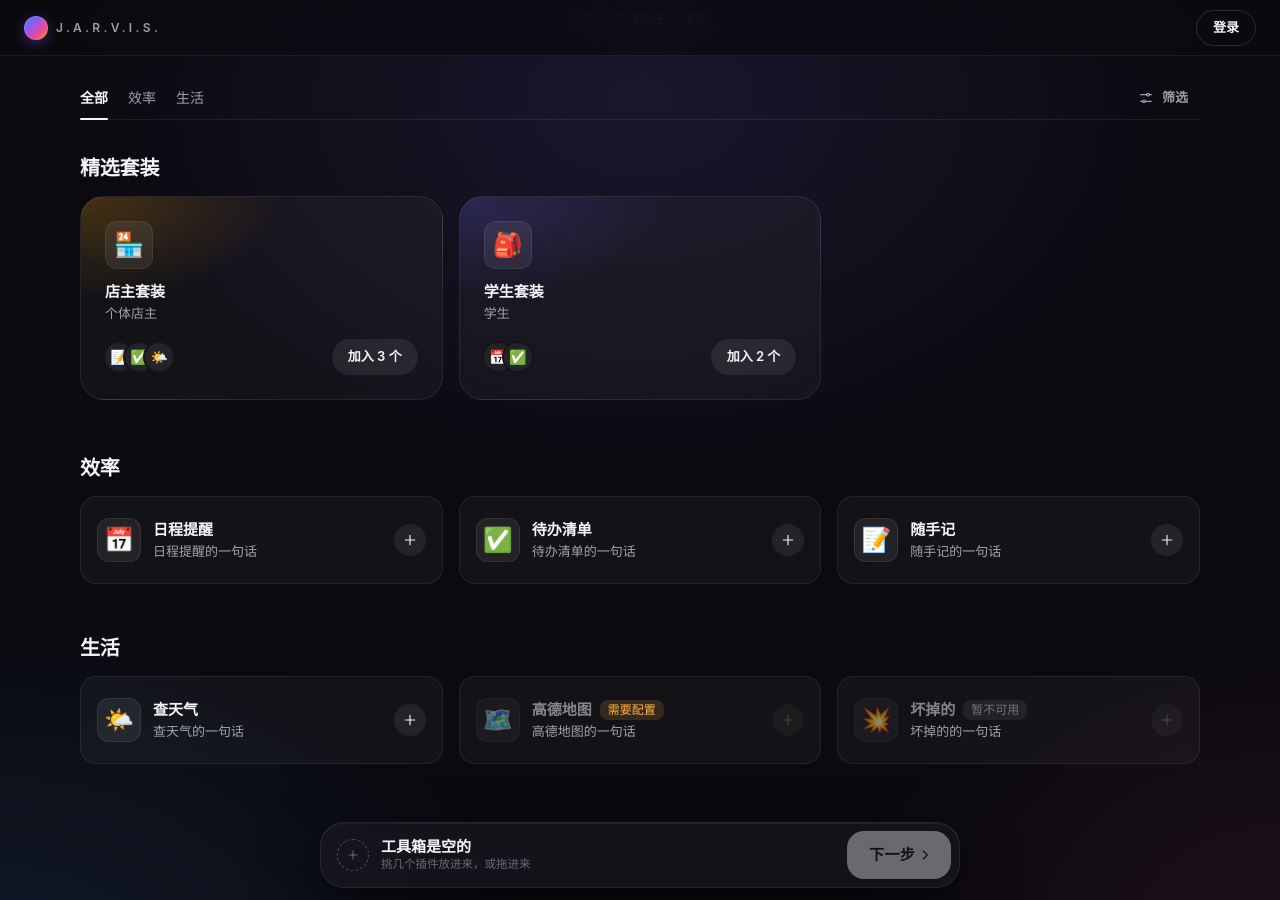
Scenario: 第十七轮版面 › 点「＋」加入：从按钮所在的卡片飞进工具箱（移出时不飞）；整套加入也飞；不可用的「＋」禁用并给读屏原因
The image size is (1280, 900).
(page scrolled)
Click the button named "加入工具箱：查天气".
click(410, 720)  # box [394,704,426,736]
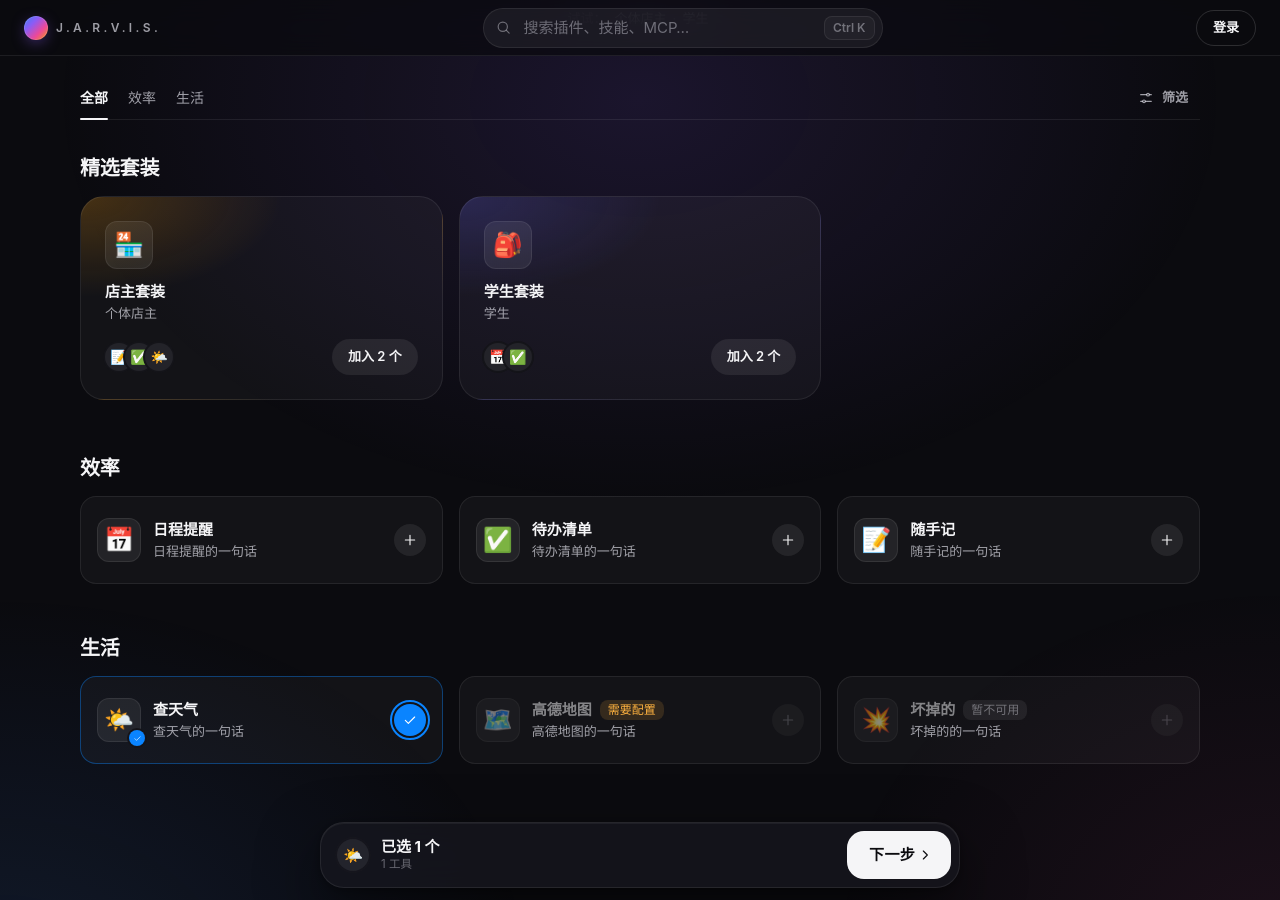
Now the button named "移出工具箱：查天气" is pressed
Click the button named "移出工具箱：查天气".
click(410, 720)  # box [394,704,426,736]
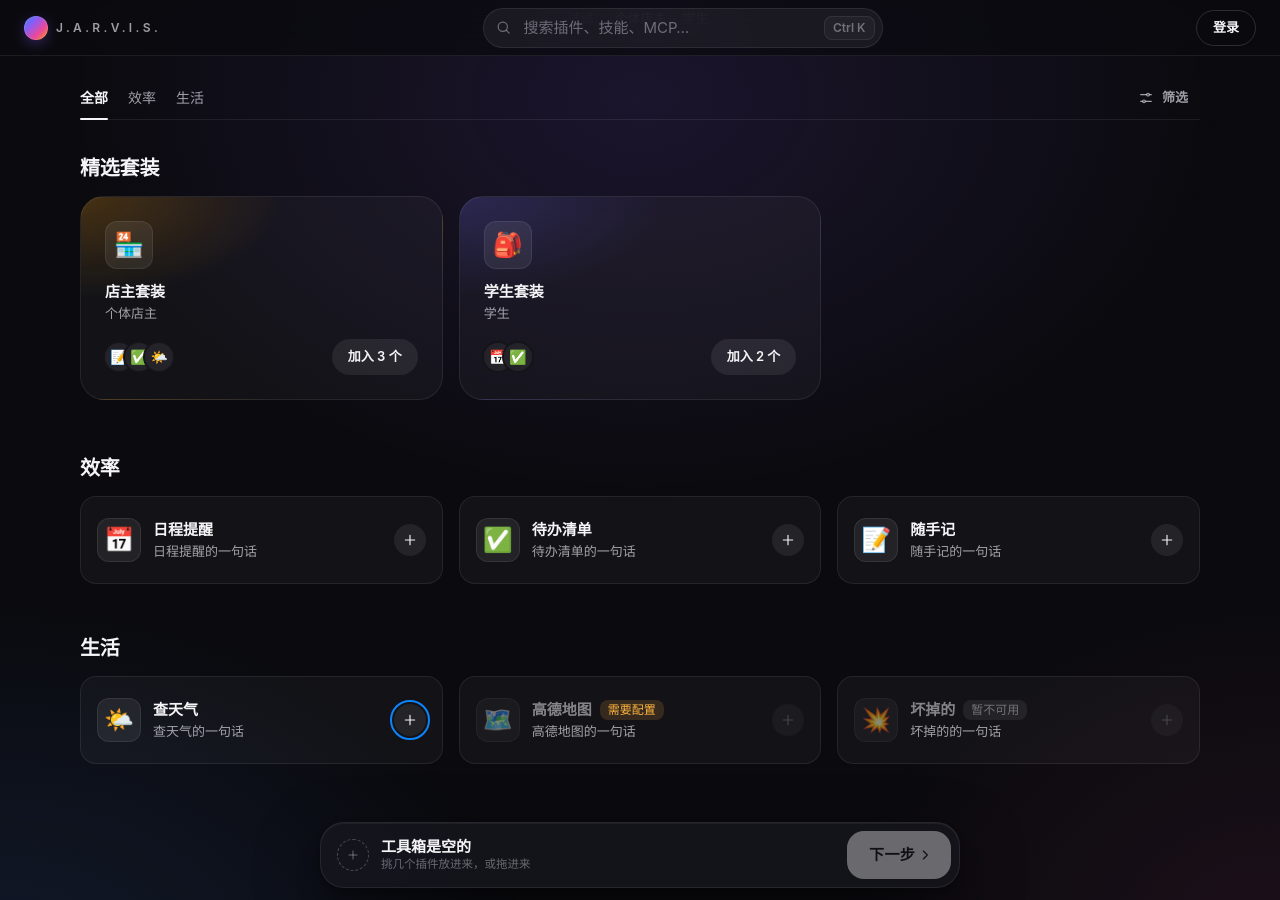
Click the button with aria-label "整套加入：店主套装（3 个）".
click(375, 356)  # box [332,338,418,374]
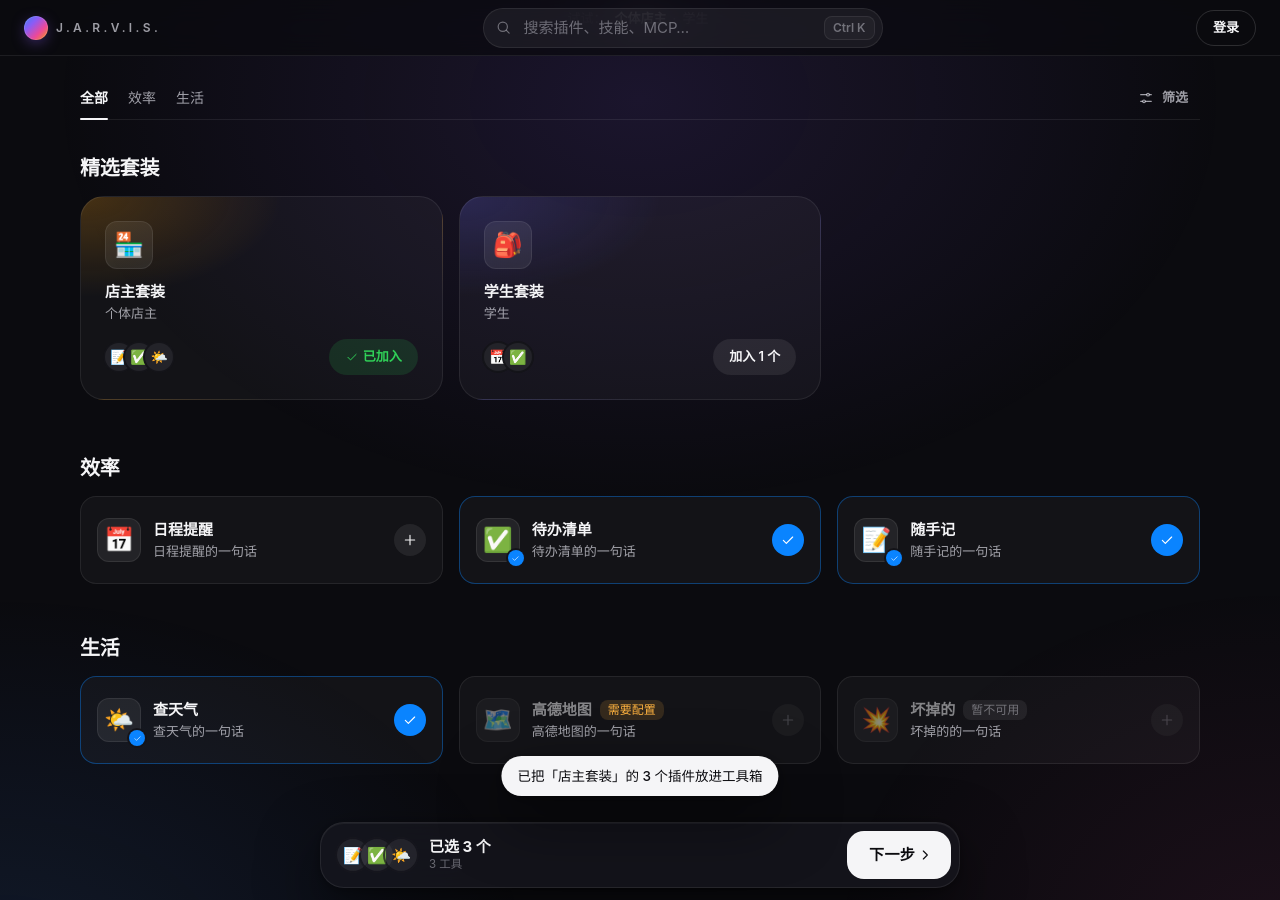
Expected: the button named "加入工具箱：高德地图" is disabled, [772,704,804,736]
Now the button with aria-label "店主套装已全部加入" reads "已加入", box [329,338,418,374]
